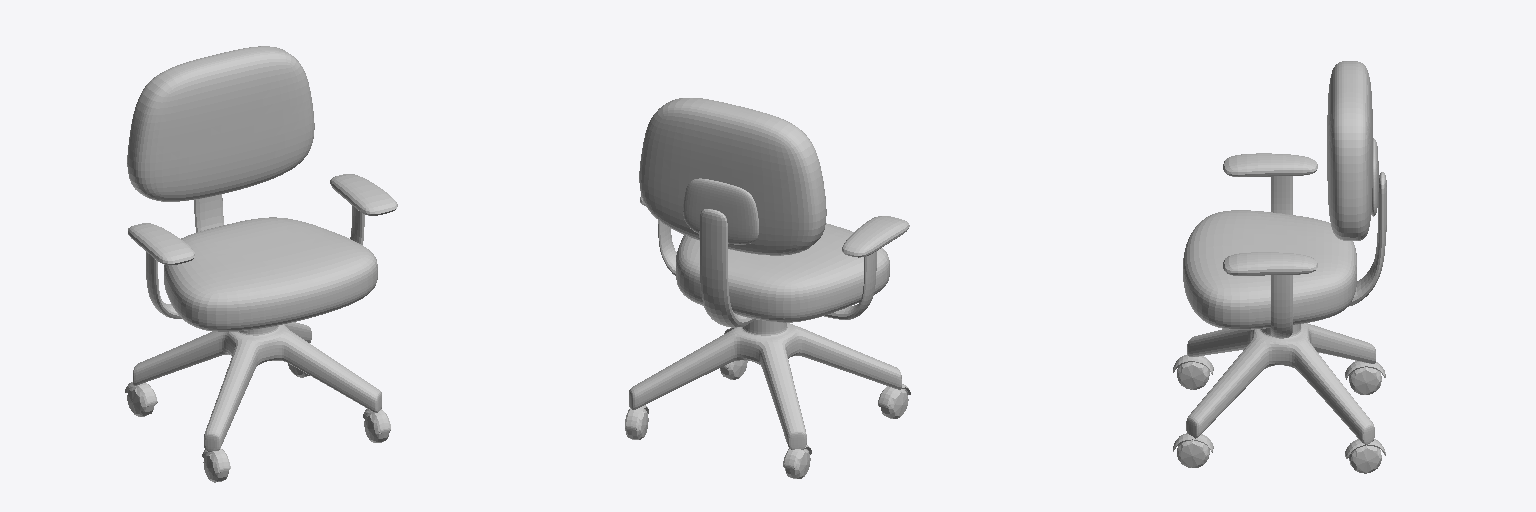
Rendered from BlueChair.obj.
3 renders of one model, left to right at view 1: azimuth 30°, elevation 25°; view 2: azimuth 150°, elevation 25°; view 3: azimuth 270°, elevation 25°, orthographic.
Parts seen in each view (by area): view 1: Cube.006, OrangeChair, Cylinder.001, Plane.009, Plane.008, Plane.007, Plane.011, Plane.012, Plane.013; view 2: Cube.006, OrangeChair, Cylinder.001, Plane.007, Cube.007, Plane.009, Plane.008, Plane.013, Plane.011, Plane.010; view 3: OrangeChair, Cylinder.001, Cube.006, Plane.009, Plane.008, Plane.007, Plane.013, Plane.012, Plane.011, Plane.010.
Boxes of the visible parts, x1=… form: Cube.006: x1=127, y1=46, x2=314, y2=201; OrangeChair: x1=164, y1=217, x2=377, y2=331; Cylinder.001: x1=133, y1=322, x2=381, y2=451; Plane.009: x1=128, y1=174, x2=397, y2=264; Plane.008: x1=146, y1=206, x2=364, y2=318; Plane.007: x1=194, y1=194, x2=223, y2=232; Plane.011: x1=125, y1=382, x2=157, y2=416; Plane.012: x1=363, y1=409, x2=390, y2=442; Plane.013: x1=202, y1=448, x2=230, y2=482; Cube.006: x1=639, y1=98, x2=826, y2=255; OrangeChair: x1=676, y1=223, x2=889, y2=322; Cylinder.001: x1=629, y1=320, x2=901, y2=449; Plane.007: x1=699, y1=209, x2=755, y2=327; Cube.007: x1=683, y1=178, x2=758, y2=244; Plane.009: x1=640, y1=195, x2=909, y2=257; Plane.008: x1=658, y1=220, x2=876, y2=319; Plane.013: x1=878, y1=384, x2=910, y2=418; Plane.011: x1=783, y1=445, x2=811, y2=478; Plane.010: x1=625, y1=405, x2=648, y2=439; OrangeChair: x1=1183, y1=210, x2=1356, y2=329; Cylinder.001: x1=1186, y1=323, x2=1375, y2=444; Cube.006: x1=1327, y1=61, x2=1372, y2=240; Plane.009: x1=1223, y1=153, x2=1317, y2=275; Plane.008: x1=1271, y1=176, x2=1292, y2=338; Plane.007: x1=1348, y1=172, x2=1386, y2=306; Plane.013: x1=1173, y1=355, x2=1213, y2=389; Plane.012: x1=1173, y1=433, x2=1213, y2=467; Plane.011: x1=1345, y1=361, x2=1385, y2=394; Plane.010: x1=1345, y1=439, x2=1385, y2=473.
Bounding box in the file's own units: 2.41 × 3.35 × 1.88.